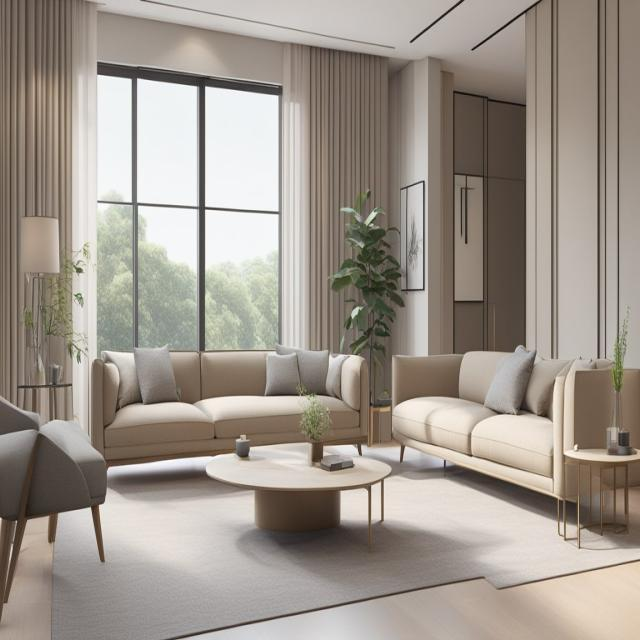sofa: (390, 347, 640, 535), (90, 345, 370, 471)
